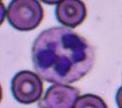N: (32, 27, 94, 84)
